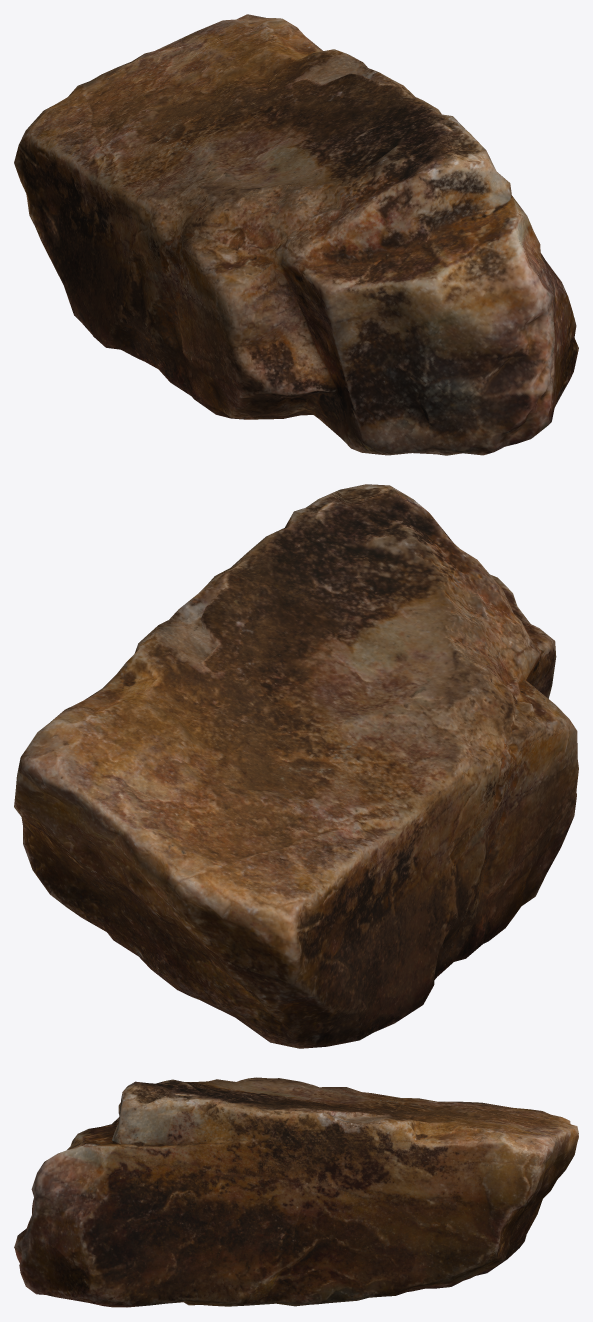
The model's file is park_rock.glb.
3 views of the same model, one above another, from view 1: azimuth 30°, elevation 25°; view 2: azimuth 150°, elevation 25°; view 3: azimuth 270°, elevation 25° (orthographic). The views are drawn at different scales.
Parts seen in each view (by area): view 1: rock_07.001; view 2: rock_07.001; view 3: rock_07.001.
Part boxes in pixels (x1,y1,x2,y2): rock_07.001: (14, 14, 578, 455); rock_07.001: (14, 484, 578, 1048); rock_07.001: (14, 1077, 578, 1307).
Bounding box in the file's own units: 0.3799 × 0.3377 × 0.757.
1 material, 1 textured.
